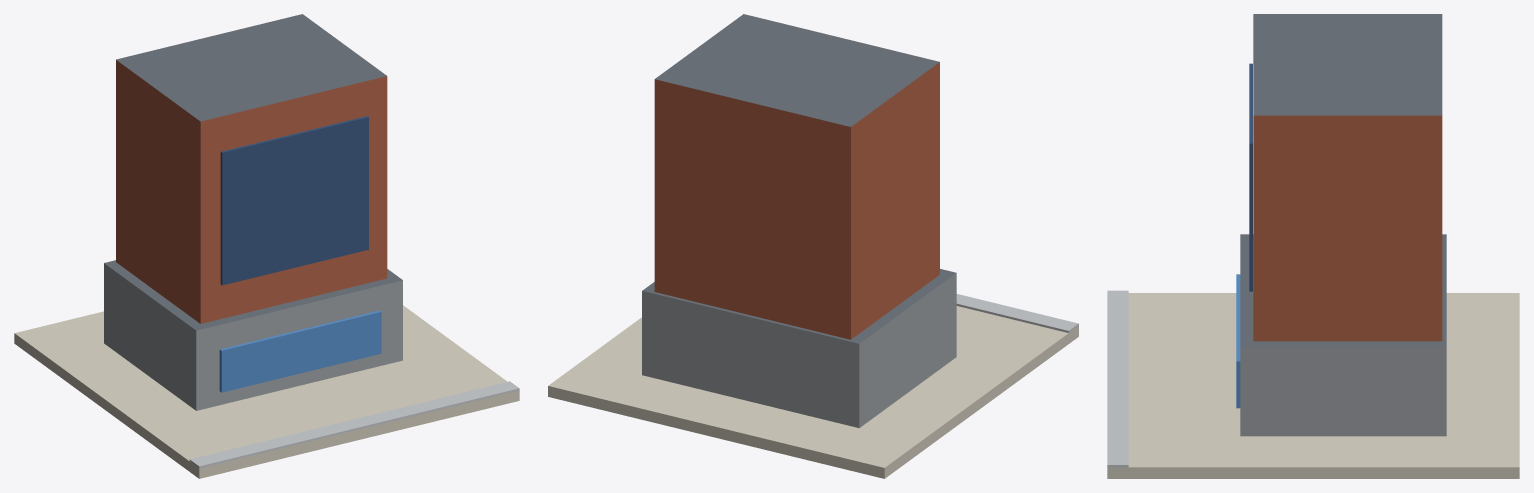
3 renders of one model, left to right at view 1: azimuth 30°, elevation 25°; view 2: azimuth 150°, elevation 25°; view 3: azimuth 270°, elevation 25°, orthographic. The views are drawn at different scales.
Parts seen in each view (by area): view 1: b09_v2_lod2; view 2: b09_v2_lod2; view 3: b09_v2_lod2.
Part boxes in pixels (<box>): b09_v2_lod2: <box>14,14,519,478</box>; b09_v2_lod2: <box>548,14,1078,478</box>; b09_v2_lod2: <box>1107,14,1519,478</box>.
Bounding box in the file's own units: 0.96 × 0.84 × 0.96.
